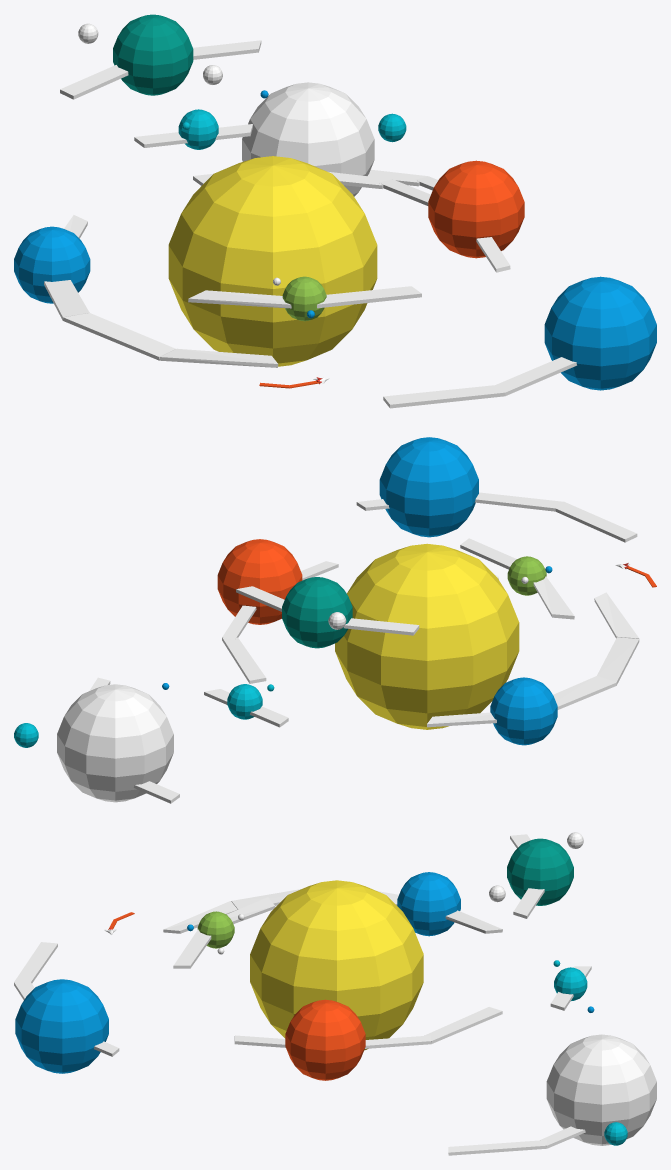
The model's file is decentralized_worlds.glb.
3 views of the same model, one above another, from view 1: azimuth 30°, elevation 25°; view 2: azimuth 150°, elevation 25°; view 3: azimuth 270°, elevation 25° (orthographic). The views are drawn at different scales.
Visible parts, largest first — view 1: group959907504; view 2: group959907504; view 3: group959907504.
Part boxes in pixels (<box>): group959907504: <box>14,14,656,408</box>; group959907504: <box>14,437,639,803</box>; group959907504: <box>14,832,656,1155</box>.
Bounding box in the file's own units: 4.57 × 2.24 × 5.89.
